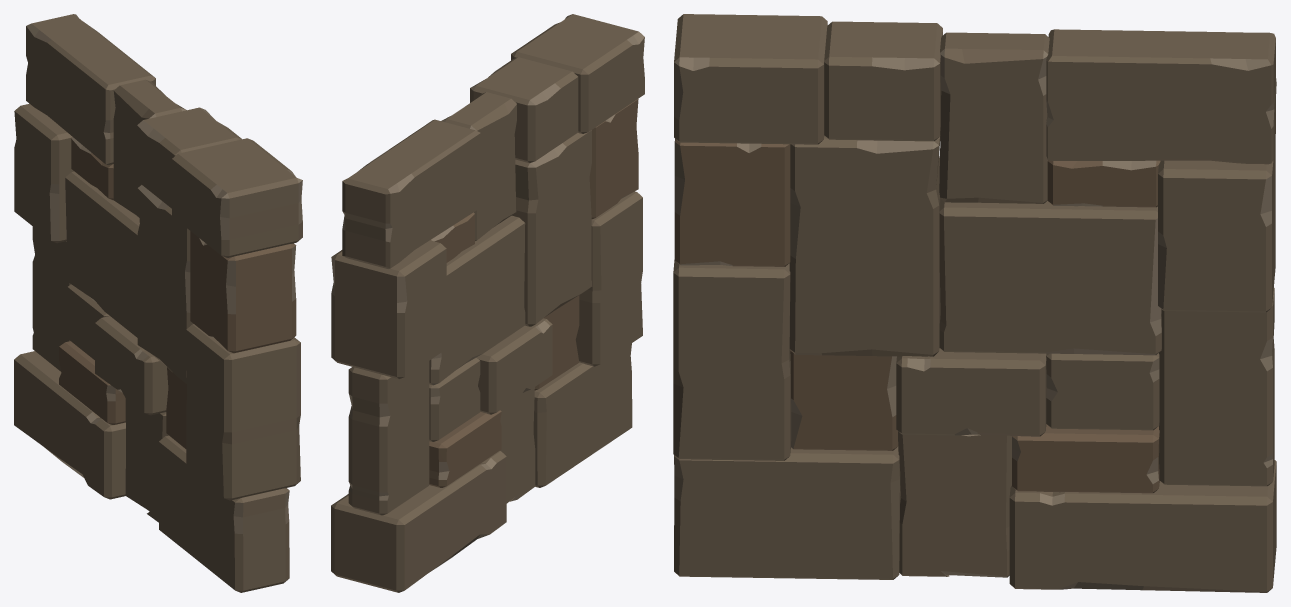
The model's file is chamber_wall_east_2_lev3.glb.
The picture shows the model from 3 angles, left to right: view 1: azimuth 30°, elevation 25°; view 2: azimuth 150°, elevation 25°; view 3: azimuth 270°, elevation 25°; orthographic projection. The views are drawn at different scales.
Visible parts, largest first — view 1: chamber_wall_east_2_lev3; view 2: chamber_wall_east_2_lev3; view 3: chamber_wall_east_2_lev3.
Boxes of the visible parts, box(x1,y1,x2,y2) form: chamber_wall_east_2_lev3: box(14, 14, 302, 592); chamber_wall_east_2_lev3: box(331, 14, 644, 592); chamber_wall_east_2_lev3: box(673, 14, 1276, 592).
Bounding box in the file's own units: 1.44 × 6.01 × 6.22.
